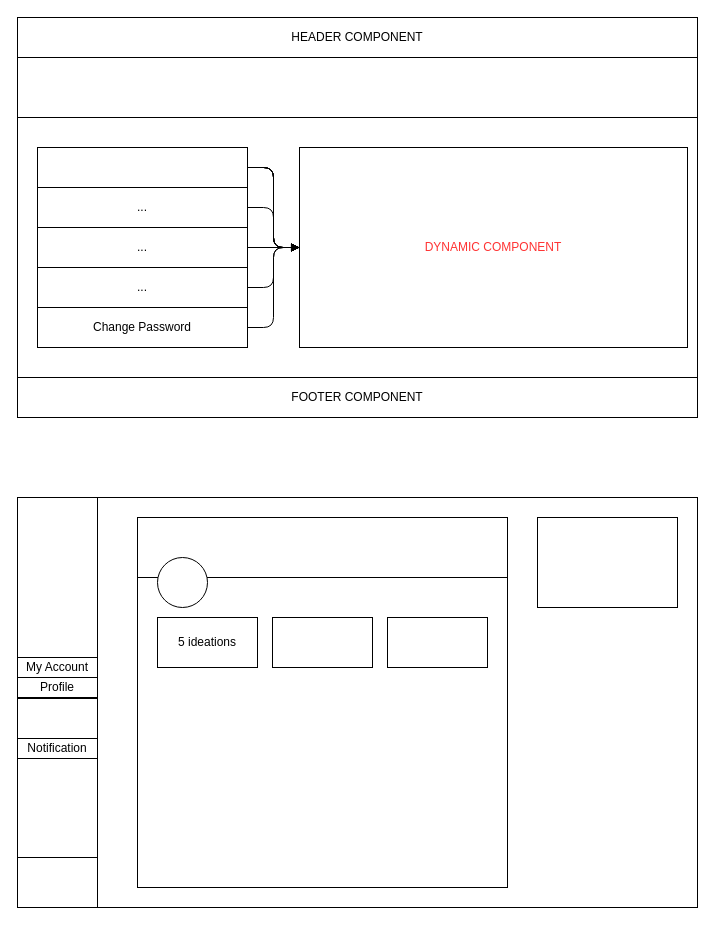
Some shapes in this 715 by 925 pixel diagram are drawn without their labels. Each missing label, with the centre of its shape:
"Account Settings" belongs at [142,167].
"HERO COMPONENT" belongs at [357,87].
"Security $ Access" belongs at [57,718].
"Upgrade to premium" belongs at [607,562].
"User 1234 me@gmail.com" belongs at [57,882].
